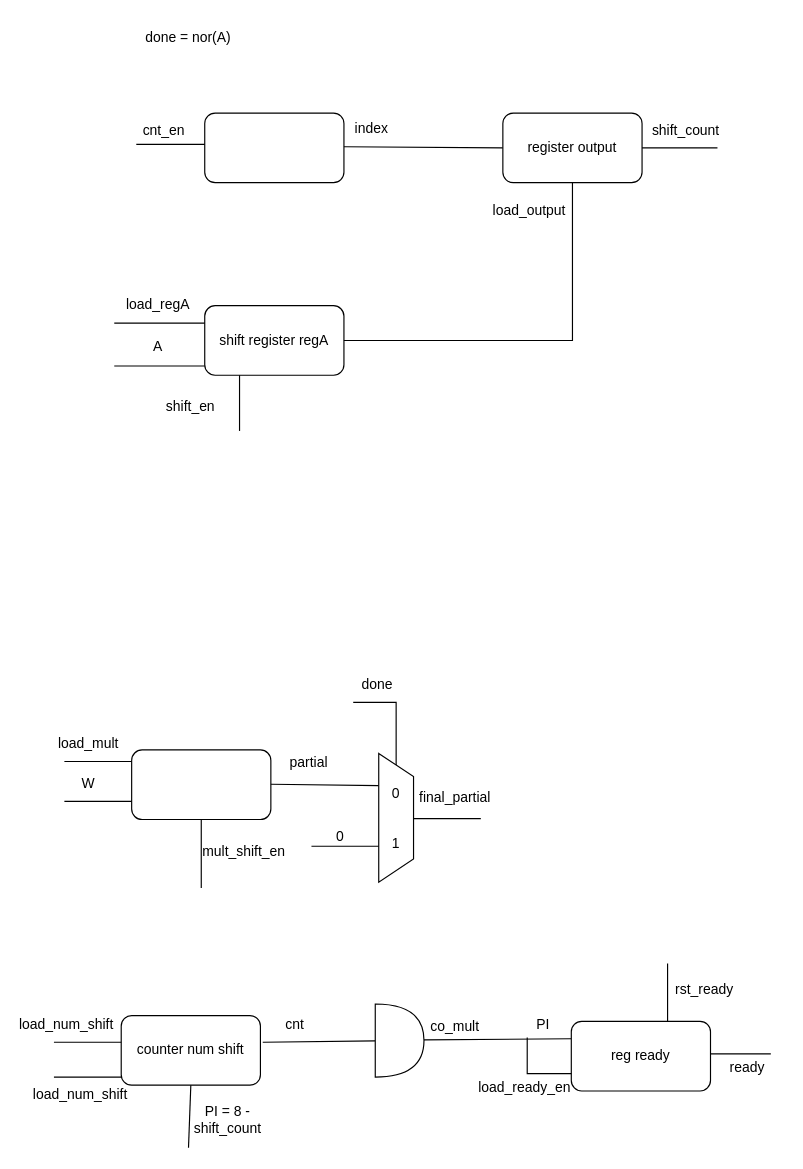
Some shapes in this 803 by 1169 pixel diagram are drawn without their labels. The box of each missing label's shape, as (x1, y1, x2, y2) in pixels:
counterLOD: (204, 112, 344, 183)
mult shift register: (130, 749, 271, 820)
